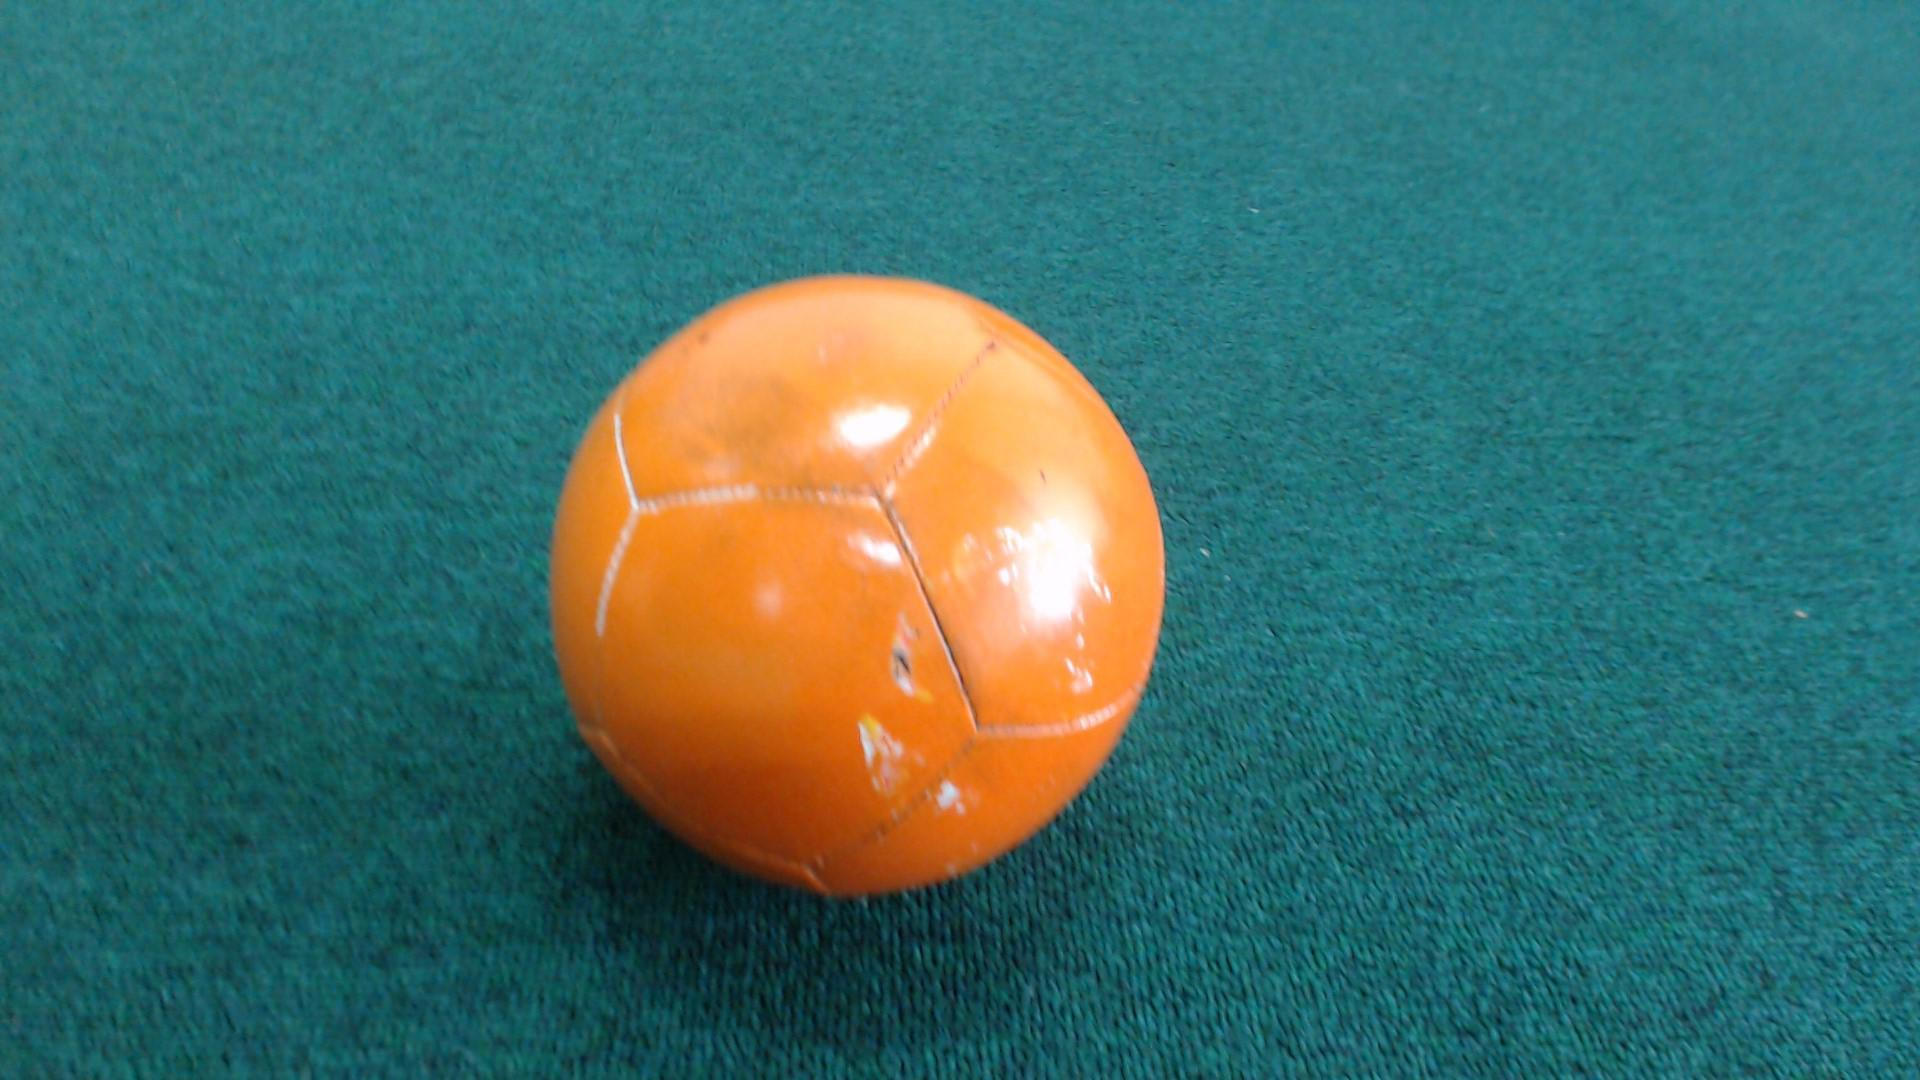bola: (514, 262, 1203, 922)
